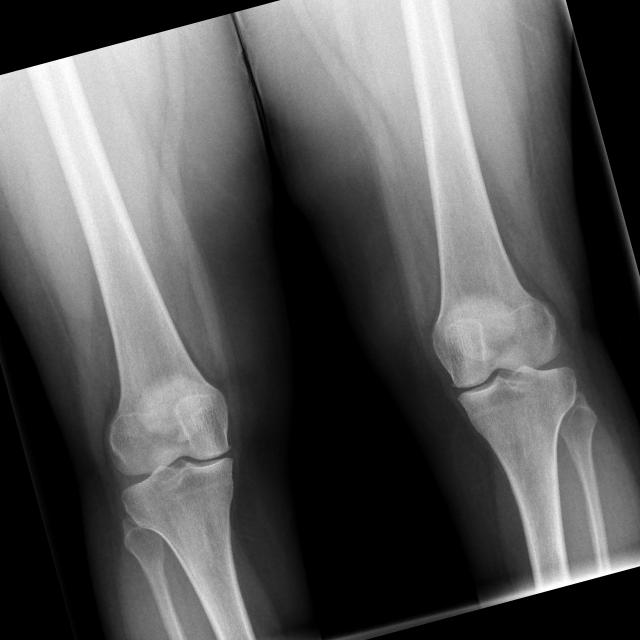Knee: (424, 277, 586, 433), (96, 372, 254, 526)
